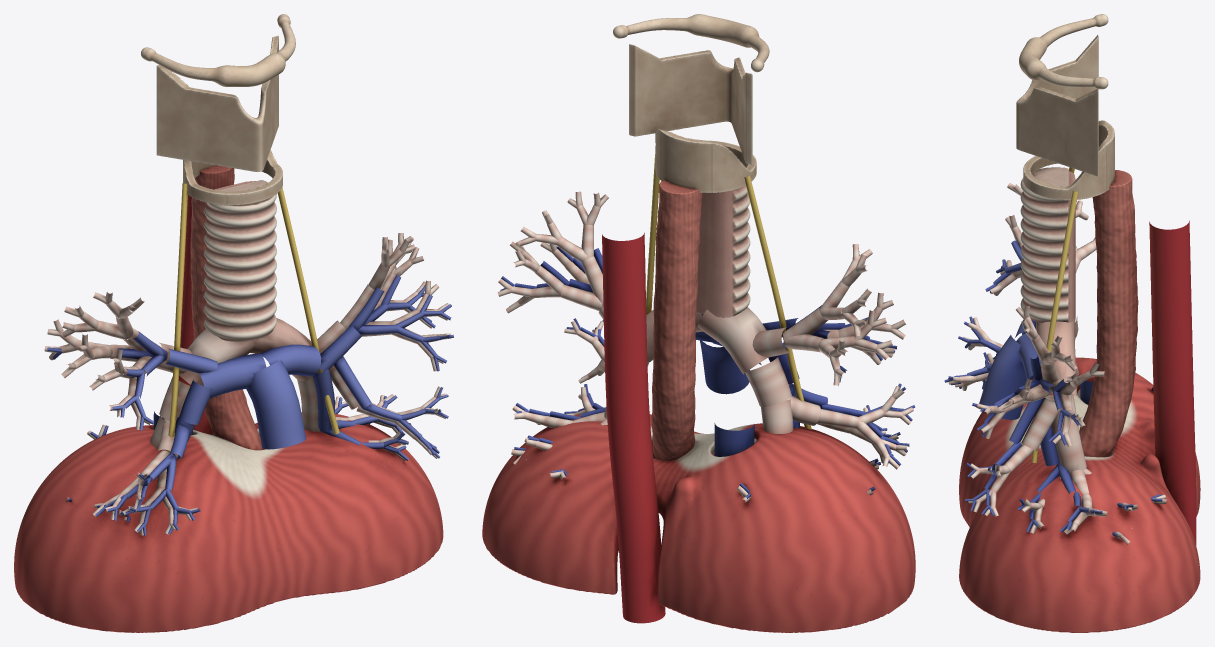
File: airway-diaphragm.da175abd.glb
3 views of the same model, side by side, from view 1: azimuth 30°, elevation 25°; view 2: azimuth 150°, elevation 25°; view 3: azimuth 270°, elevation 25° (orthographic). The views are drawn at different scales.
Parts seen in each view (by area): view 1: Diaphragm, Pulmonary arteries, Bronchial tree, Larynx, Trachea, Oesophagus, Phrenic nerves, Descending aorta; view 2: Diaphragm, Bronchial tree, Larynx, Descending aorta, Oesophagus, Trachea, Pulmonary arteries, Phrenic nerves, Inferior vena cava; view 3: Diaphragm, Larynx, Bronchial tree, Descending aorta, Oesophagus, Pulmonary arteries, Trachea, Phrenic nerves.
Part boxes in pixels (x1,y1,x2,y2): Diaphragm: [14, 412, 443, 632]; Pulmonary arteries: [47, 275, 453, 535]; Bronchial tree: [44, 233, 451, 535]; Larynx: [141, 14, 295, 205]; Trachea: [203, 180, 276, 341]; Oesophagus: [190, 165, 264, 450]; Phrenic nerves: [166, 161, 339, 452]; Descending aorta: [179, 194, 211, 434]; Diaphragm: [482, 414, 915, 632]; Bronchial tree: [497, 191, 913, 502]; Larynx: [613, 14, 769, 192]; Descending aorta: [602, 232, 665, 623]; Oesophagus: [651, 180, 702, 460]; Trachea: [696, 164, 750, 317]; Pulmonary arteries: [500, 246, 914, 498]; Phrenic nerves: [646, 154, 811, 429]; Inferior vena cava: [714, 423, 754, 456]; Diaphragm: [959, 357, 1200, 632]; Larynx: [1016, 14, 1114, 200]; Bronchial tree: [948, 183, 1166, 544]; Descending aorta: [1149, 220, 1196, 545]; Oesophagus: [1079, 170, 1138, 457]; Pulmonary arteries: [944, 240, 1162, 541]; Trachea: [1020, 167, 1075, 322]; Phrenic nerves: [1031, 167, 1078, 462].
Bounding box in the file's own units: 3.26 × 4.24 × 1.91.
